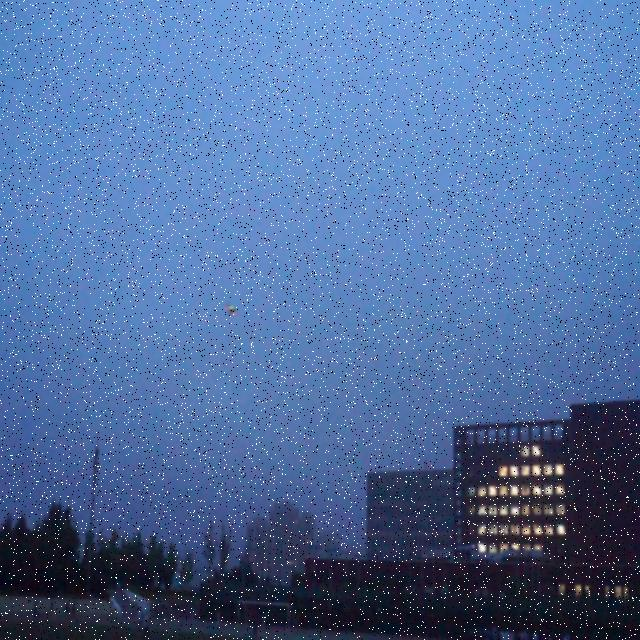UAV: (225, 306, 237, 315)
